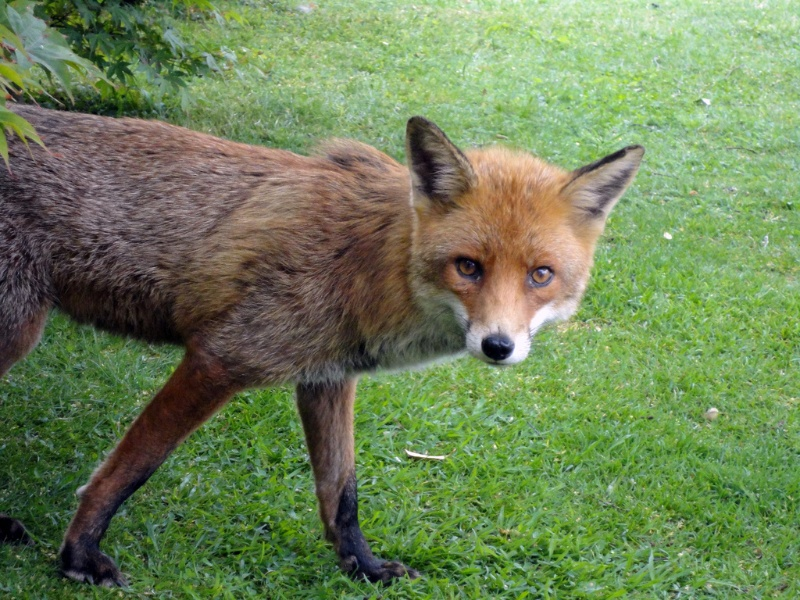fox: (1, 90, 657, 589)
